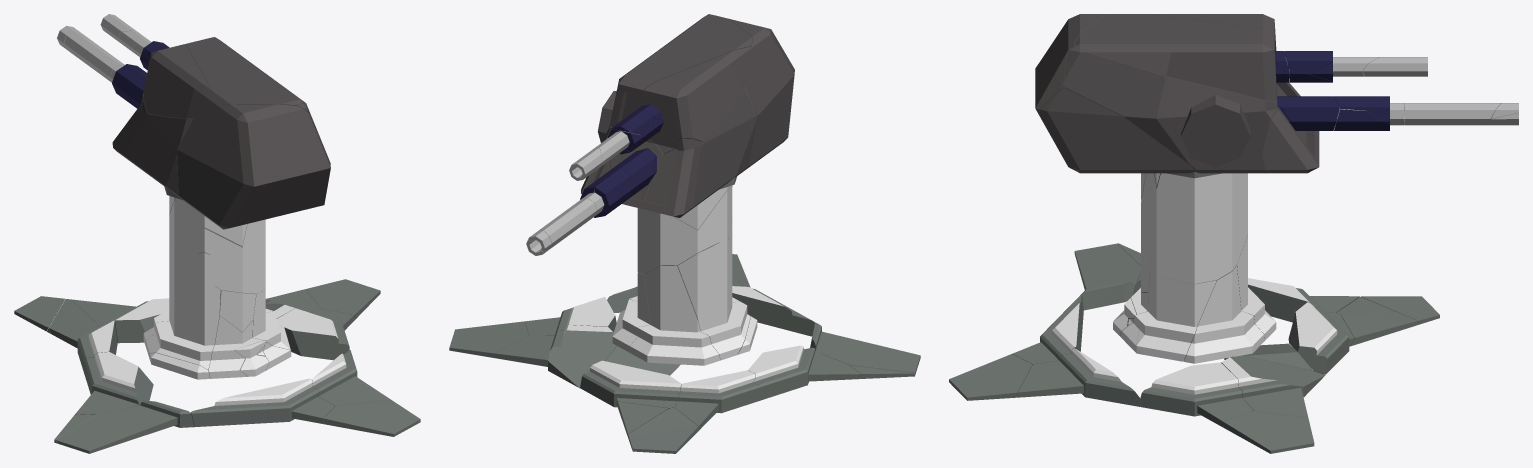
Rendered from brokenTurret.fbx.
3 views of the same model, side by side, from view 1: azimuth 30°, elevation 25°; view 2: azimuth 150°, elevation 25°; view 3: azimuth 270°, elevation 25° (orthographic). The views are drawn at different scales.
Visible parts, largest first — view 1: Cube_cell, Circle.001_cell.008, Circle.001_cell.005, Cube_cell.002, Cube_cell.006, Circle.001_cell.015, Circle.001_cell.022, Circle.001_cell.003, Cube_cell.003, Circle.001_cell.027, Circle.001_cell.033, Circle.001_cell.026 (+21 smaller); view 2: Cube_cell.006, Circle.001_cell.016, Cube_cell.002, Circle.001_cell.008, Cube_cell, Circle.001_cell.031, Cube_cell.003, Circle.001_cell.003, Circle.001_cell.019, Cube_cell.004, Circle.001_cell.006, Circle.001_cell.022 (+19 smaller); view 3: Cube_cell.002, Cube_cell.007, Cube_cell.009, Circle.001_cell.022, Circle.001_cell.023, Circle.001_cell.018, Circle.001_cell.027, Circle.001_cell.017, Circle.001_cell.026, Circle.001_cell.031, Cube.001, Circle.001_cell.015 (+21 smaller).
Boxes of the visible parts, bbox=[...] form: Cube_cell: bbox=[177, 104, 330, 229]; Circle.001_cell.008: bbox=[146, 240, 221, 370]; Circle.001_cell.005: bbox=[190, 378, 334, 426]; Cube_cell.002: bbox=[185, 37, 303, 105]; Cube_cell.006: bbox=[143, 44, 219, 118]; Circle.001_cell.015: bbox=[55, 400, 194, 453]; Circle.001_cell.022: bbox=[169, 195, 265, 266]; Circle.001_cell.003: bbox=[75, 352, 153, 414]; Cube_cell.003: bbox=[122, 113, 193, 198]; Circle.001_cell.027: bbox=[277, 308, 354, 360]; Circle.001_cell.033: bbox=[323, 400, 420, 436]; Circle.001_cell.026: bbox=[312, 350, 391, 405]; Cube_cell.006: bbox=[640, 46, 751, 153]; Circle.001_cell.016: bbox=[629, 265, 720, 365]; Cube_cell.002: bbox=[610, 14, 751, 127]; Circle.001_cell.008: bbox=[677, 239, 750, 360]; Cube_cell: bbox=[728, 18, 794, 169]; Circle.001_cell.031: bbox=[493, 325, 616, 388]; Cube_cell.003: bbox=[642, 83, 757, 212]; Circle.001_cell.003: bbox=[748, 345, 860, 404]; Circle.001_cell.019: bbox=[580, 360, 681, 408]; Cube_cell.004: bbox=[628, 138, 703, 217]; Circle.001_cell.006: bbox=[675, 370, 758, 429]; Circle.001_cell.022: bbox=[637, 176, 736, 246]; Cube_cell.002: bbox=[1075, 14, 1277, 101]; Cube_cell.007: bbox=[1064, 43, 1319, 173]; Cube_cell.009: bbox=[1039, 87, 1195, 173]; Circle.001_cell.022: bbox=[1141, 172, 1247, 238]; Circle.001_cell.023: bbox=[1141, 208, 1247, 283]; Circle.001_cell.018: bbox=[1135, 270, 1216, 361]; Circle.001_cell.027: bbox=[1140, 362, 1253, 427]; Circle.001_cell.017: bbox=[1183, 265, 1264, 363]; Circle.001_cell.026: bbox=[1017, 348, 1140, 406]; Circle.001_cell.031: bbox=[1221, 355, 1325, 417]; Cube.001: bbox=[1181, 95, 1250, 166]; Circle.001_cell.015: bbox=[1074, 243, 1140, 310].
Size of the model in its own units: 254 by 184 by 295.
